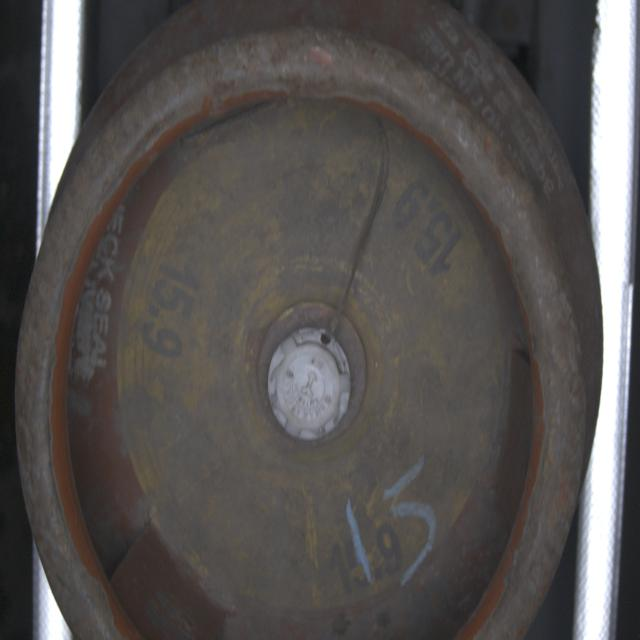Cap: (262, 326, 354, 450)
